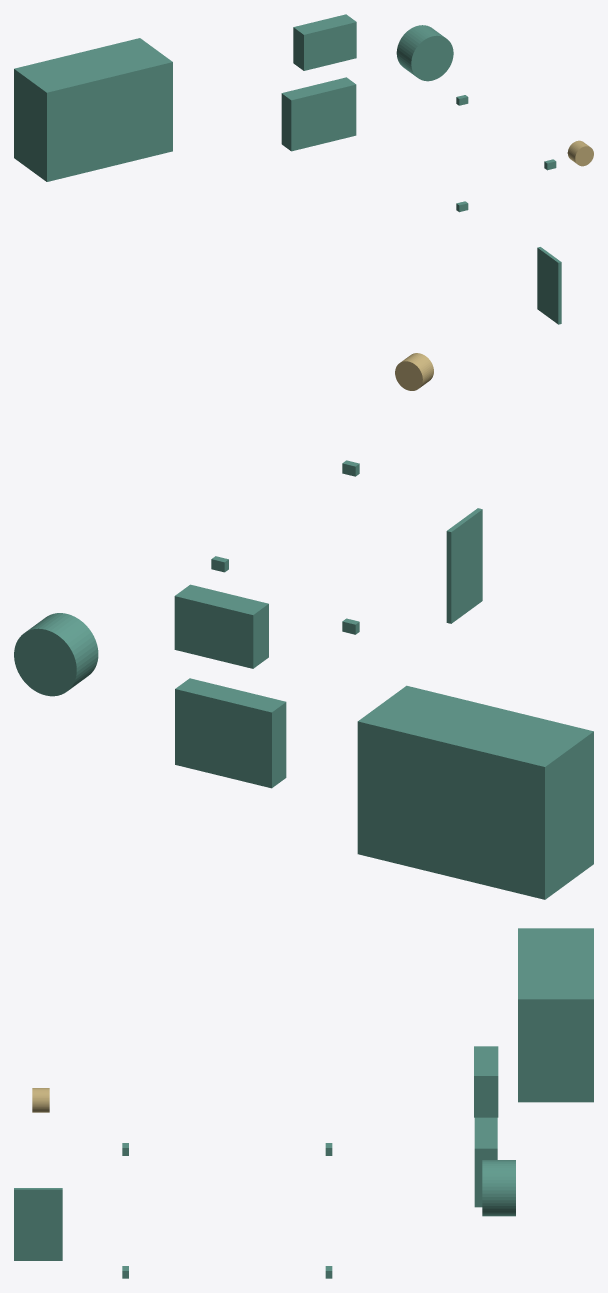
File: A11_ELECTRONIQUE.glb
3 renders of one model, top to bottom at view 1: azimuth 30°, elevation 25°; view 2: azimuth 150°, elevation 25°; view 3: azimuth 270°, elevation 25°, orthographic. The views are drawn at different scales.
Parts seen in each view (by area): view 1: E01_0, E02_1, E03_2, E04_3, E07_5, E05_4; view 2: E01_0, E02_1, E03_2, E04_3, E07_5, E05_4; view 3: E01_0, E07_5, E04_3, E03_2, E02_1.
Part boxes in pixels (box(x1,y1,x2,y2)): E01_0: box(14, 38, 172, 181); E02_1: box(281, 77, 356, 151); E03_2: box(293, 14, 356, 70); E04_3: box(396, 25, 453, 81); E07_5: box(537, 247, 561, 324); E05_4: box(567, 140, 593, 166); E01_0: box(357, 685, 593, 899); E02_1: box(175, 678, 286, 788); E03_2: box(174, 584, 268, 668); E04_3: box(14, 613, 98, 696); E07_5: box(446, 508, 482, 623); E05_4: box(395, 353, 433, 390); E01_0: box(518, 928, 593, 1102); E07_5: box(14, 1188, 62, 1260); E04_3: box(482, 1160, 515, 1216); E03_2: box(474, 1046, 498, 1117); E02_1: box(474, 1117, 497, 1207).
Bounding box in the file's own units: 962 × 385 × 1070.
